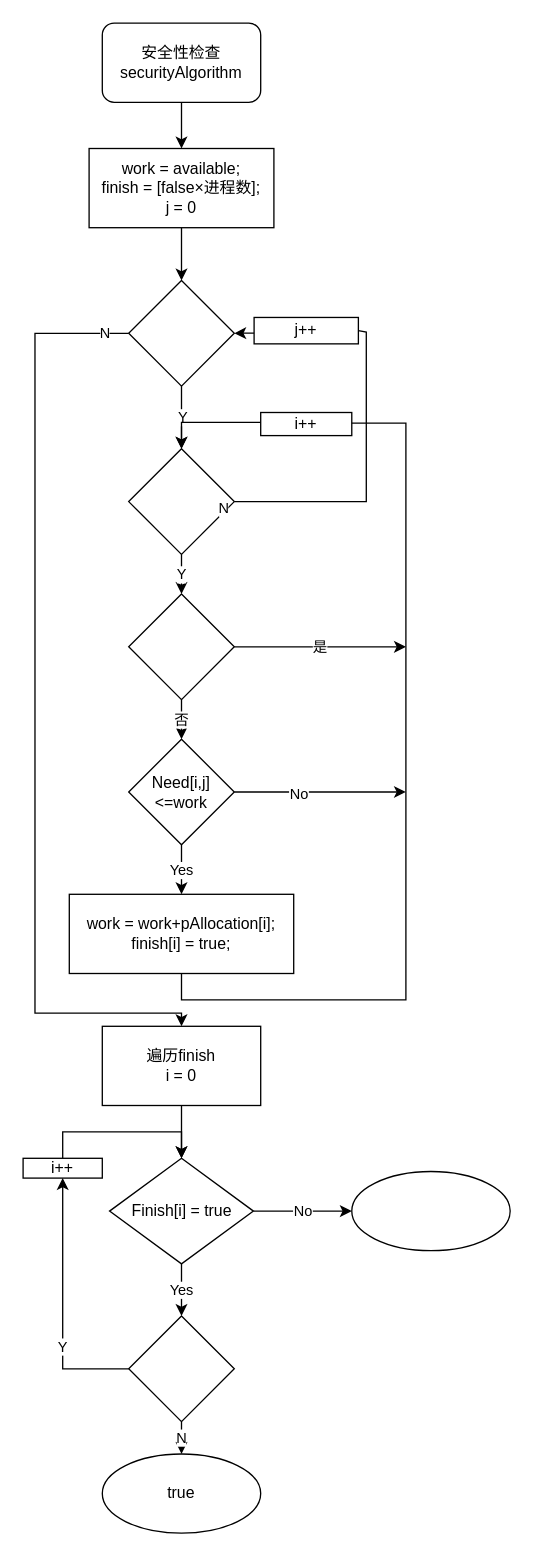
The diagram is 533 pixels wide and 1556 high, and some of its shapes have lost their labels. The shapes that lost their labels are listed below. From the top down, each one's centre as x and y in pixels, then its label:
At (x=180, y=332): "外循环 j<进程数".
At (x=180, y=500): "内循环遍历 i < 进程数".
At (x=180, y=646): "是否完成".
At (x=430, y=1210): "false".
At (x=180, y=1368): "i < 进程数".
